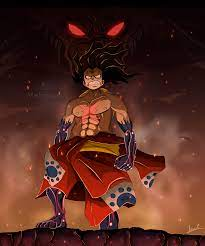Luffy: (79, 63, 107, 91)
